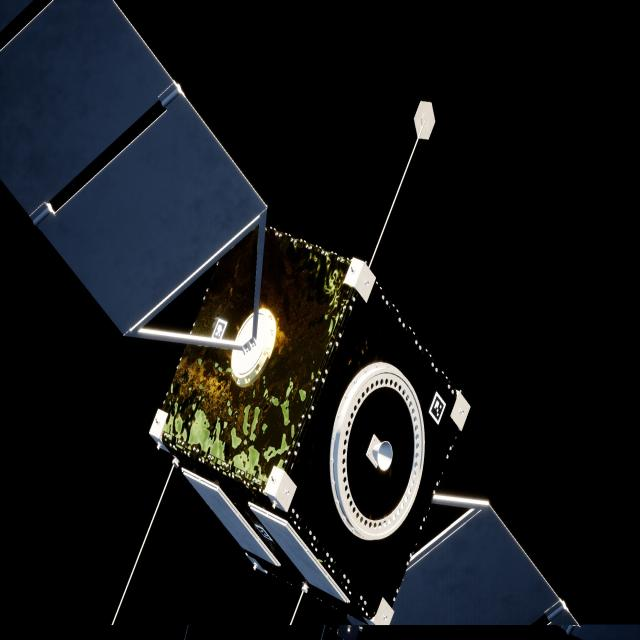satellite: (0, 0, 578, 640)
